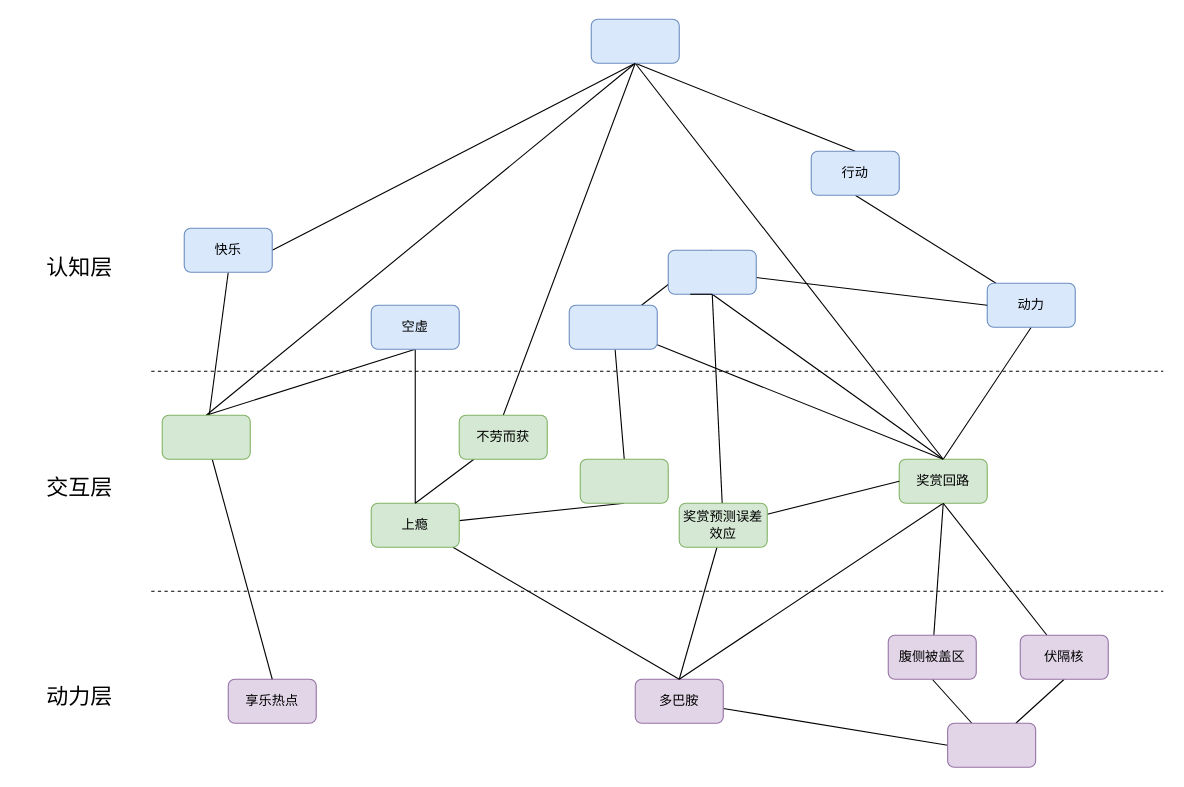
Some shapes in this 1184 by 787 pixel diagram are drawn without their labels. The centre of each missing label's shape, as x and y in pixels:
"中脑-边缘通路" goes at (991,744).
"回报" goes at (634,40).
"提示" goes at (612,326).
"期望" goes at (711,271).
"认知目标" goes at (205,436).
"超强刺激" goes at (623,480).
